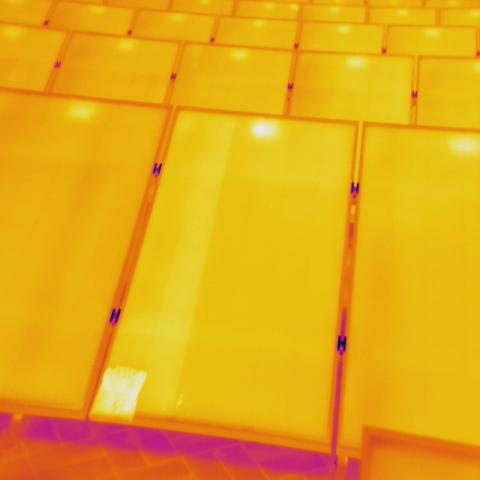fault: (93, 365, 152, 419), (63, 105, 97, 120), (255, 120, 280, 139)
